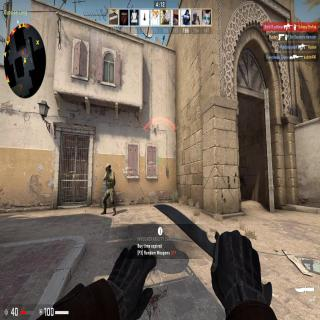CT-Body: (99, 164, 116, 211)
CT-Head: (105, 162, 112, 172)
